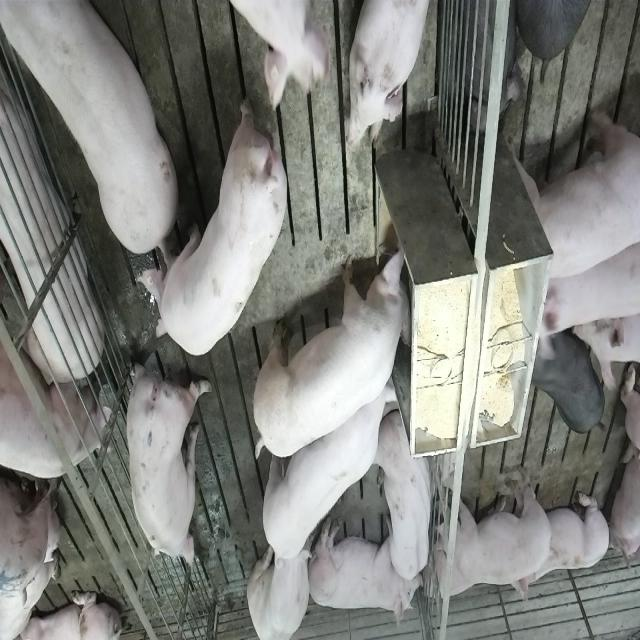Feeding: (256, 240, 420, 466)
Lateral_lying: (0, 47, 102, 412), (306, 513, 425, 626)
Sitting: (374, 414, 436, 582), (247, 525, 315, 639)
Standing: (0, 0, 175, 258), (142, 90, 292, 352), (257, 361, 397, 563), (506, 101, 638, 281), (124, 347, 209, 570), (430, 459, 554, 589), (0, 341, 107, 479), (528, 228, 638, 358)
Sternal_lying: (347, 0, 432, 151), (514, 488, 610, 608)
